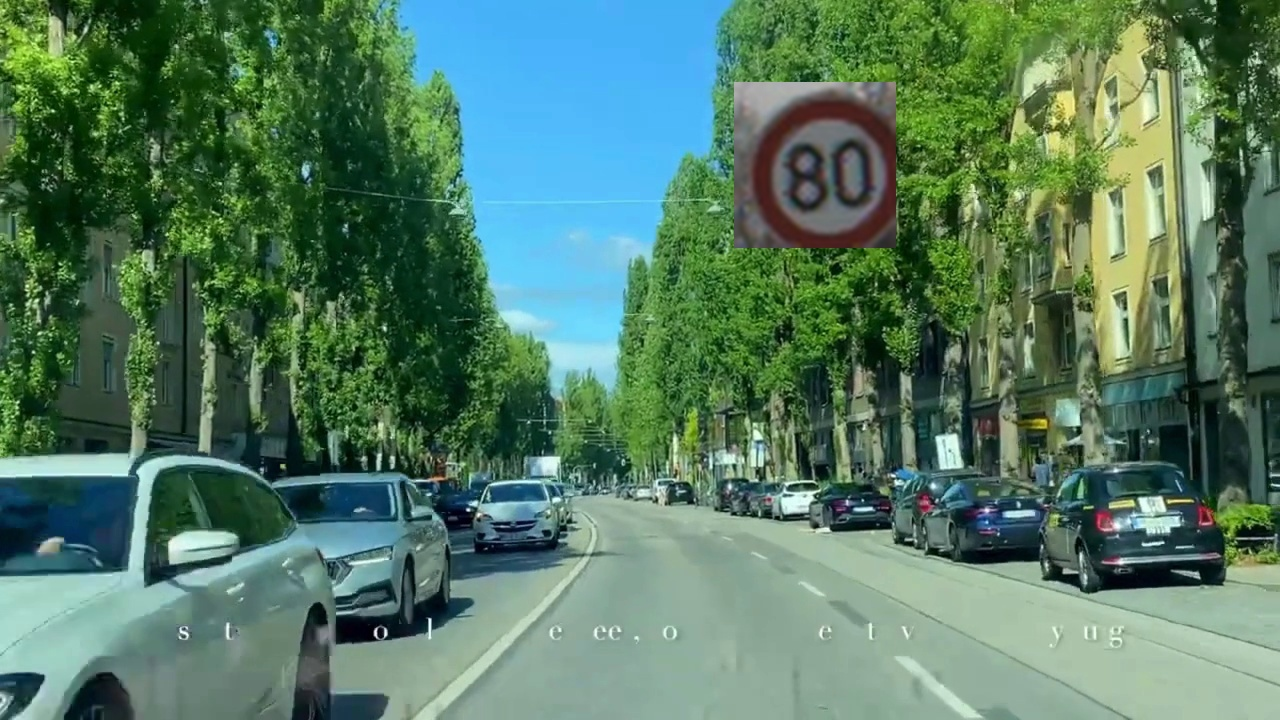Speed 80: (734, 82, 896, 248)
